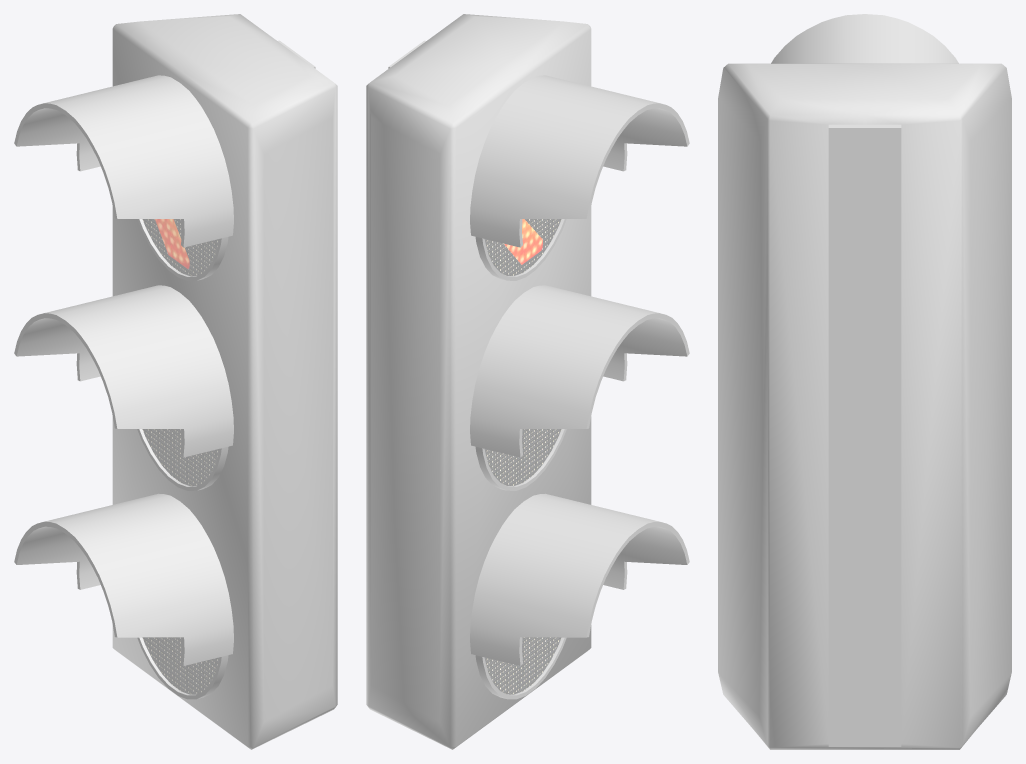
File: 竖排左转灯_RedLight.glb
3 views of the same model, side by side, from view 1: azimuth 30°, elevation 25°; view 2: azimuth 150°, elevation 25°; view 3: azimuth 270°, elevation 25° (orthographic).
Visible parts, largest first — view 1: 竖排左转灯_RedLight; view 2: 竖排左转灯_RedLight; view 3: 竖排左转灯_RedLight.
Boxes of the visible parts, <box> form: 竖排左转灯_RedLight: <box>14,14,337,749</box>; 竖排左转灯_RedLight: <box>366,14,689,749</box>; 竖排左转灯_RedLight: <box>718,14,1011,749</box>.
Bounding box in the file's own units: 0.6001 × 1.58 × 0.65.
Materials: 3 (2 with a texture image).
